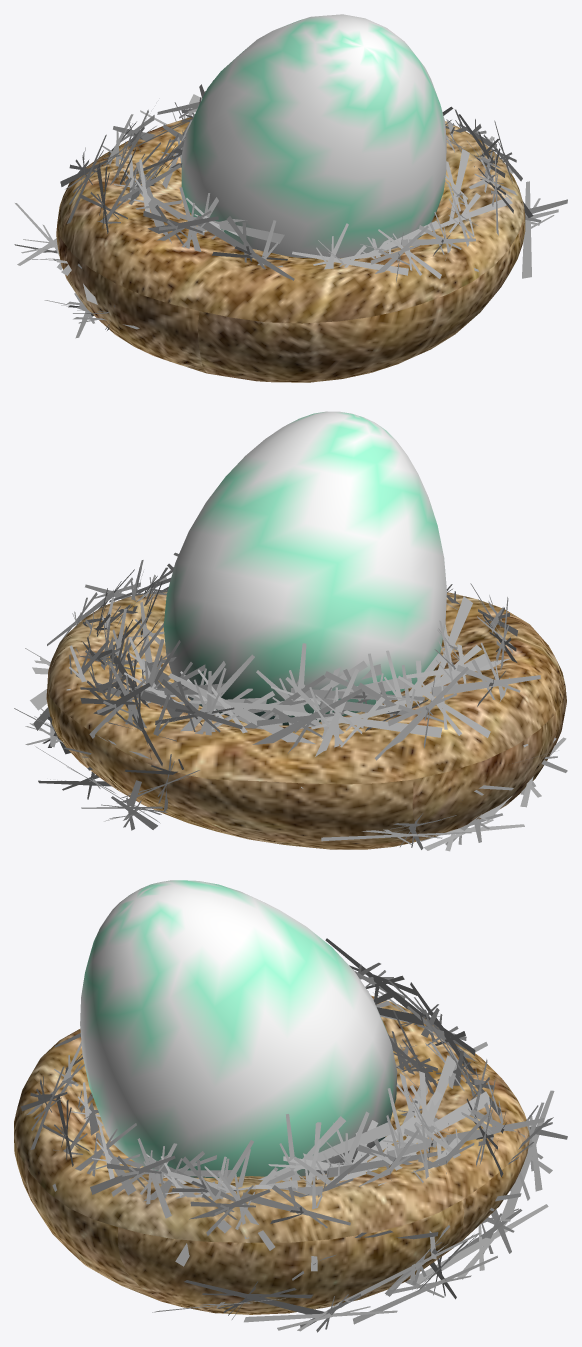
File: egg.fbx
3 renders of one model, top to bottom at view 1: azimuth 30°, elevation 25°; view 2: azimuth 150°, elevation 25°; view 3: azimuth 270°, elevation 25°, orthographic. The views are drawn at different scales.
Visible parts, largest first — view 1: hay1, egg1, hay3; view 2: hay1, egg1, hay3; view 3: egg1, hay1, hay3.
Part boxes in pixels (bbox=[...]): hay1: bbox=[56, 117, 525, 382]; egg1: bbox=[181, 14, 446, 258]; hay3: bbox=[14, 80, 567, 338]; hay1: bbox=[46, 592, 566, 849]; egg1: bbox=[163, 411, 446, 725]; hay3: bbox=[14, 552, 567, 851]; egg1: bbox=[80, 880, 397, 1178]; hay1: bbox=[14, 995, 529, 1314]; hay3: bbox=[21, 938, 567, 1332].
Size of the model in its own units: 3.62 by 2.44 by 3.19.
